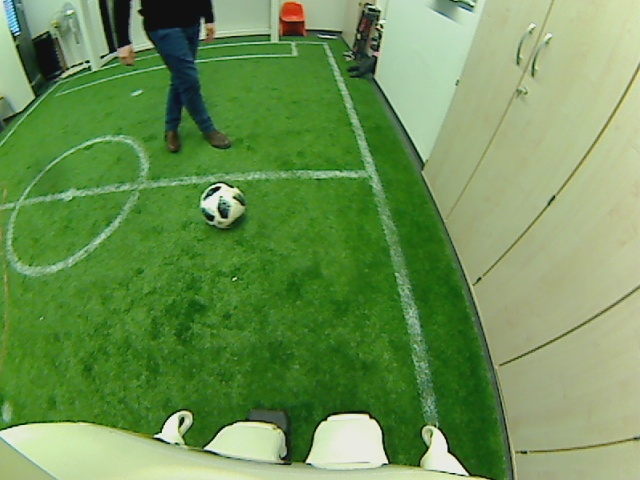ball: (200, 182, 244, 228)
